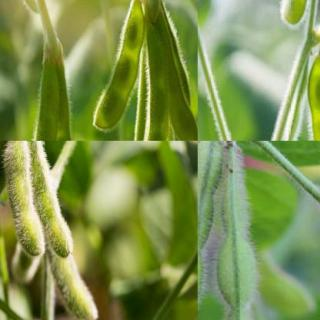soya: (92, 2, 145, 132), (218, 148, 258, 320), (25, 141, 73, 258), (1, 141, 44, 256), (198, 141, 225, 319), (13, 61, 60, 140), (165, 28, 197, 140), (49, 258, 99, 320), (142, 26, 168, 140), (52, 65, 91, 140)
